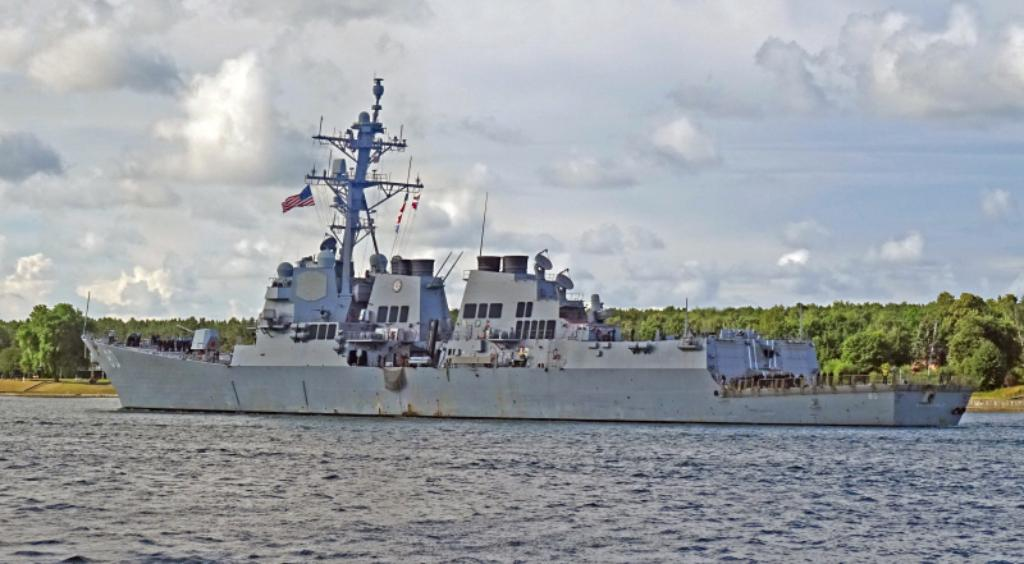Warship: (76, 73, 980, 431)
